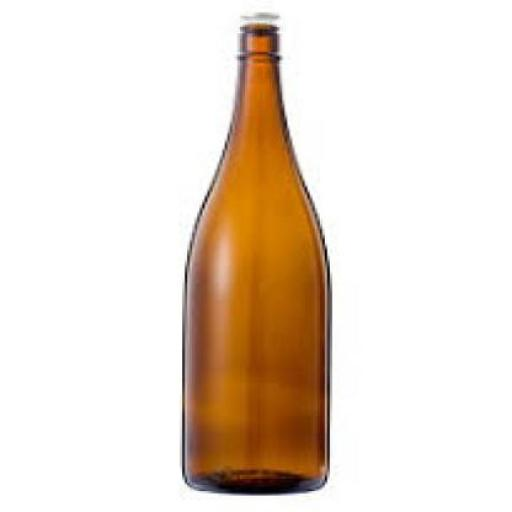glass: (182, 21, 328, 493)
metal: (235, 9, 277, 27)
